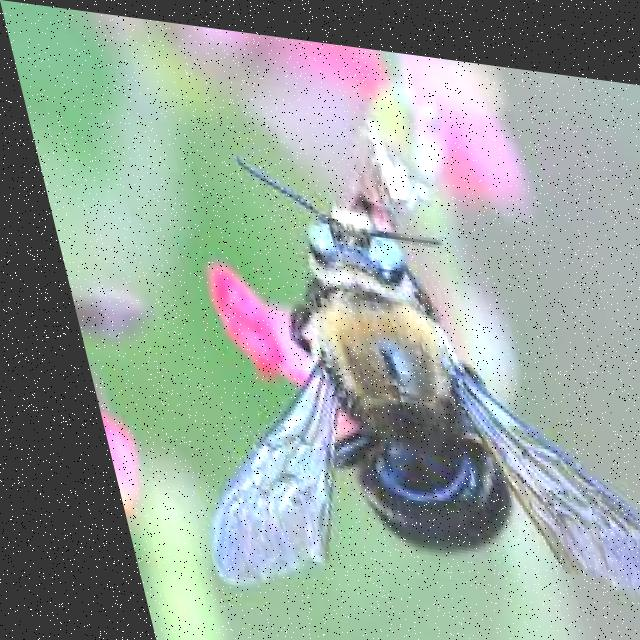Xylocopa: (101, 126, 640, 614)
